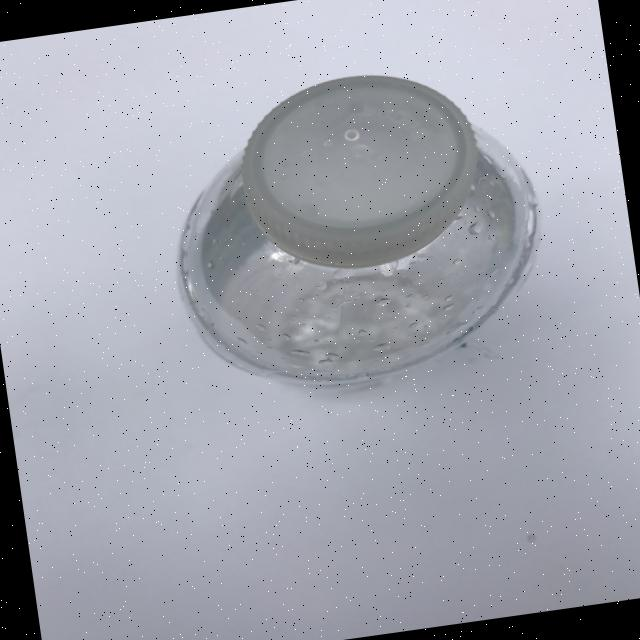plastic: (152, 51, 560, 408)
